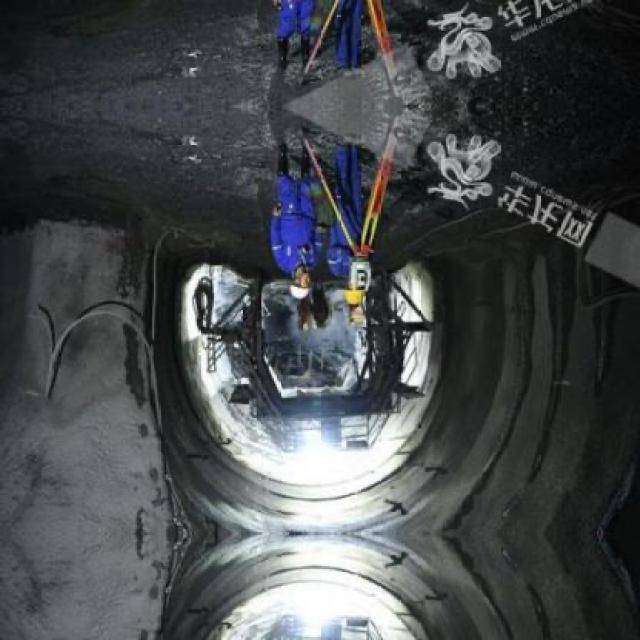con casco: (250, 276, 312, 333)
